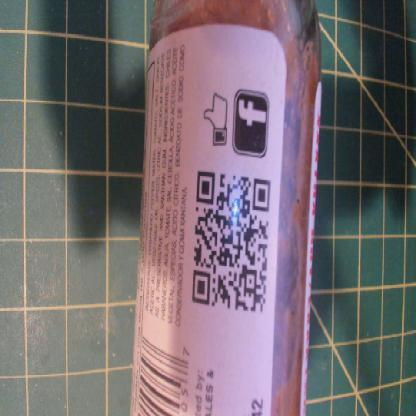barcode: (134, 331, 195, 416)
qr: (190, 169, 275, 316)
